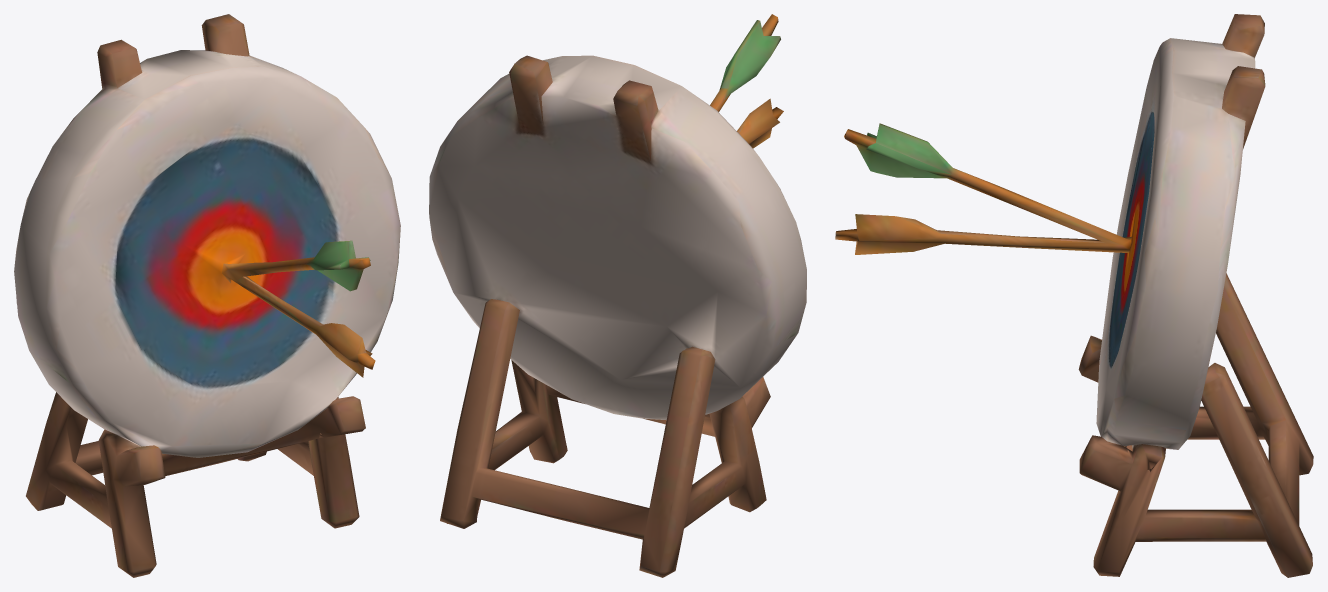
Rendered from sz-archery-target.glb.
3 views of the same model, side by side, from view 1: azimuth 30°, elevation 25°; view 2: azimuth 150°, elevation 25°; view 3: azimuth 270°, elevation 25° (orthographic). The views are drawn at different scales.
Parts seen in each view (by area): view 1: geometry_0; view 2: geometry_0; view 3: geometry_0.
Part boxes in pixels (box(x1,y1,x2,y2)): geometry_0: box(14, 14, 400, 577); geometry_0: box(429, 14, 806, 577); geometry_0: box(835, 14, 1313, 577).
Bounding box in the file's own units: 0.7919 × 1 × 0.9078.
Materials: 1 (1 with a texture image).
